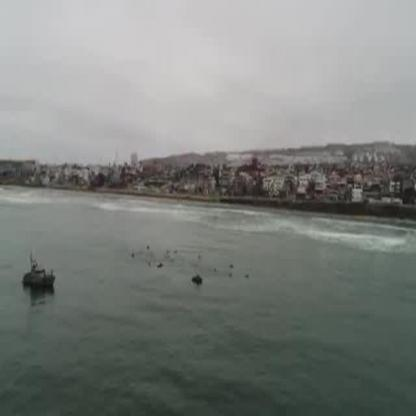Boat: (22, 257, 58, 304)
